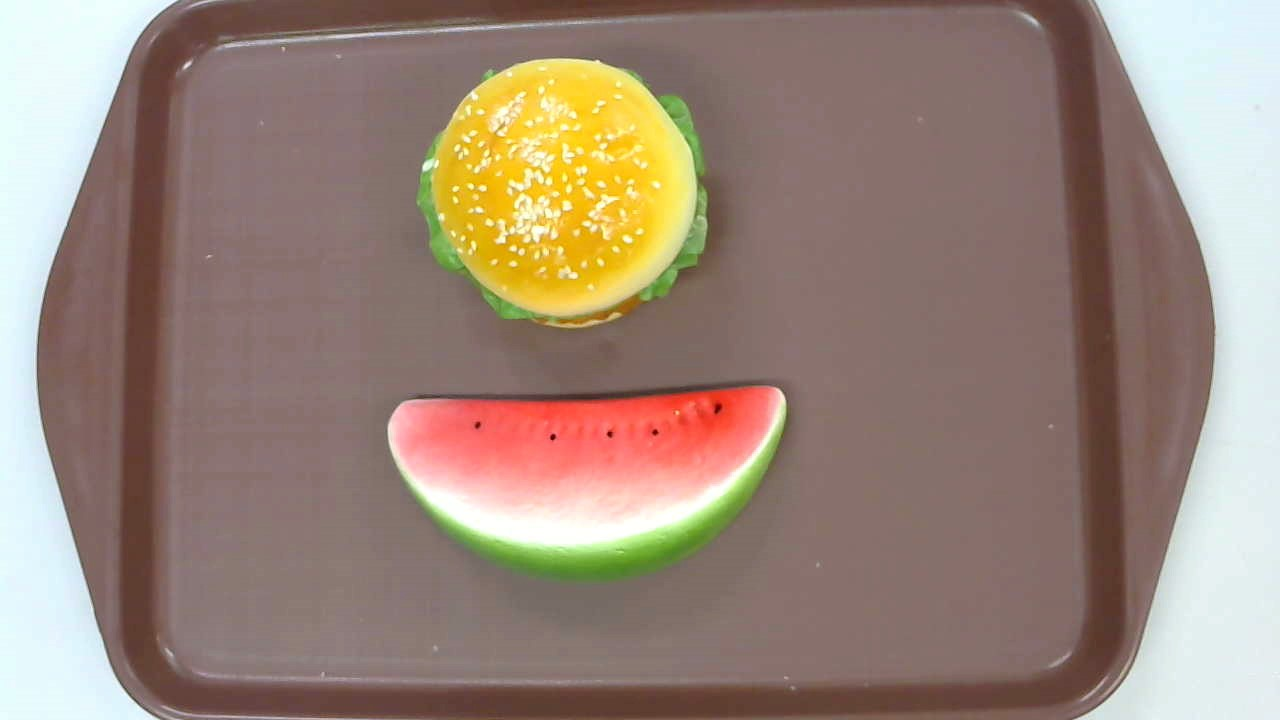hamburger: (414, 57, 710, 329)
water melon: (385, 385, 789, 583)
